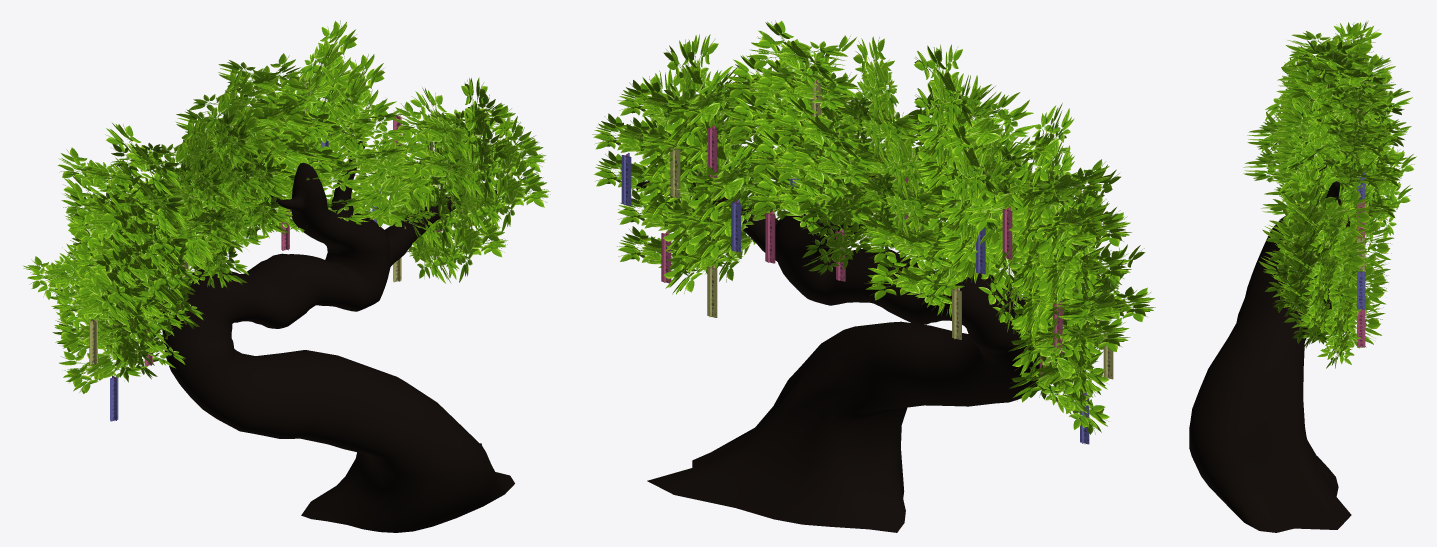
Rendered from bonzai_tree_v1 1.FBX.
The picture shows the model from 3 angles, left to right: view 1: azimuth 30°, elevation 25°; view 2: azimuth 150°, elevation 25°; view 3: azimuth 270°, elevation 25°; orthographic projection. The views are drawn at different scales.
Visible parts, largest first — view 1: folliage_bonzai, tronc_bonzai, voeux_bonzai_jaunes; view 2: folliage_bonzai, tronc_bonzai, voeux_bonzai_roses, voeux_bonzai_jaunes, voeux_bonzai_violets; view 3: folliage_bonzai, tronc_bonzai, voeux_bonzai_violets, voeux_bonzai_roses.
Boxes of the visible parts, x1,y1,x2,y2 form: folliage_bonzai: (23, 20, 550, 393); tronc_bonzai: (158, 141, 514, 532); voeux_bonzai_jaunes: (89, 77, 433, 364); folliage_bonzai: (592, 20, 1155, 434); tronc_bonzai: (636, 135, 1041, 532); voeux_bonzai_roses: (661, 125, 1062, 374); voeux_bonzai_jaunes: (670, 79, 1113, 379); voeux_bonzai_violets: (621, 146, 1089, 444); folliage_bonzai: (1243, 21, 1416, 368); tronc_bonzai: (1189, 157, 1351, 532); voeux_bonzai_violets: (1357, 172, 1365, 309); voeux_bonzai_roses: (1357, 201, 1364, 346).
Bounding box in the file's own units: 472 × 409 × 213.
Materials: 5 (4 with a texture image).
